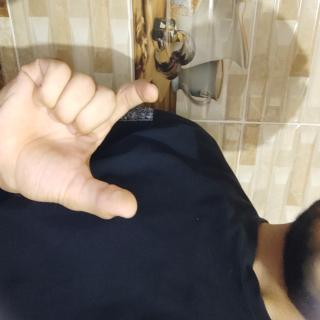NOON: (40, 207, 170, 320)
